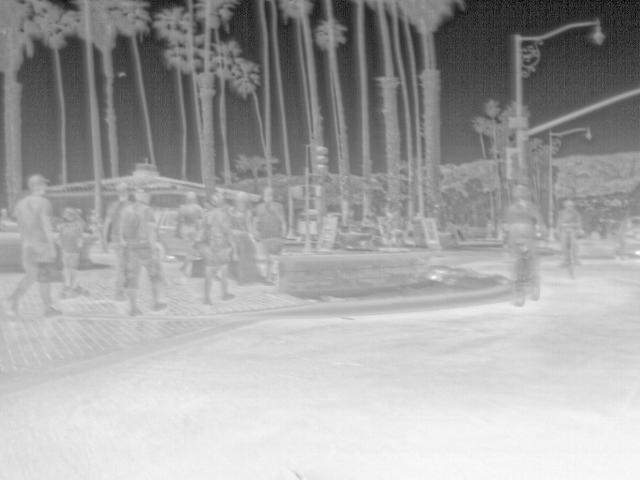car: (615, 214, 640, 260)
person: (3, 172, 66, 317), (118, 185, 170, 317), (200, 191, 237, 306), (501, 184, 548, 258), (254, 188, 289, 283), (57, 206, 88, 298), (175, 190, 208, 272), (551, 199, 584, 269), (102, 181, 132, 255), (233, 190, 255, 237), (387, 204, 408, 246)
